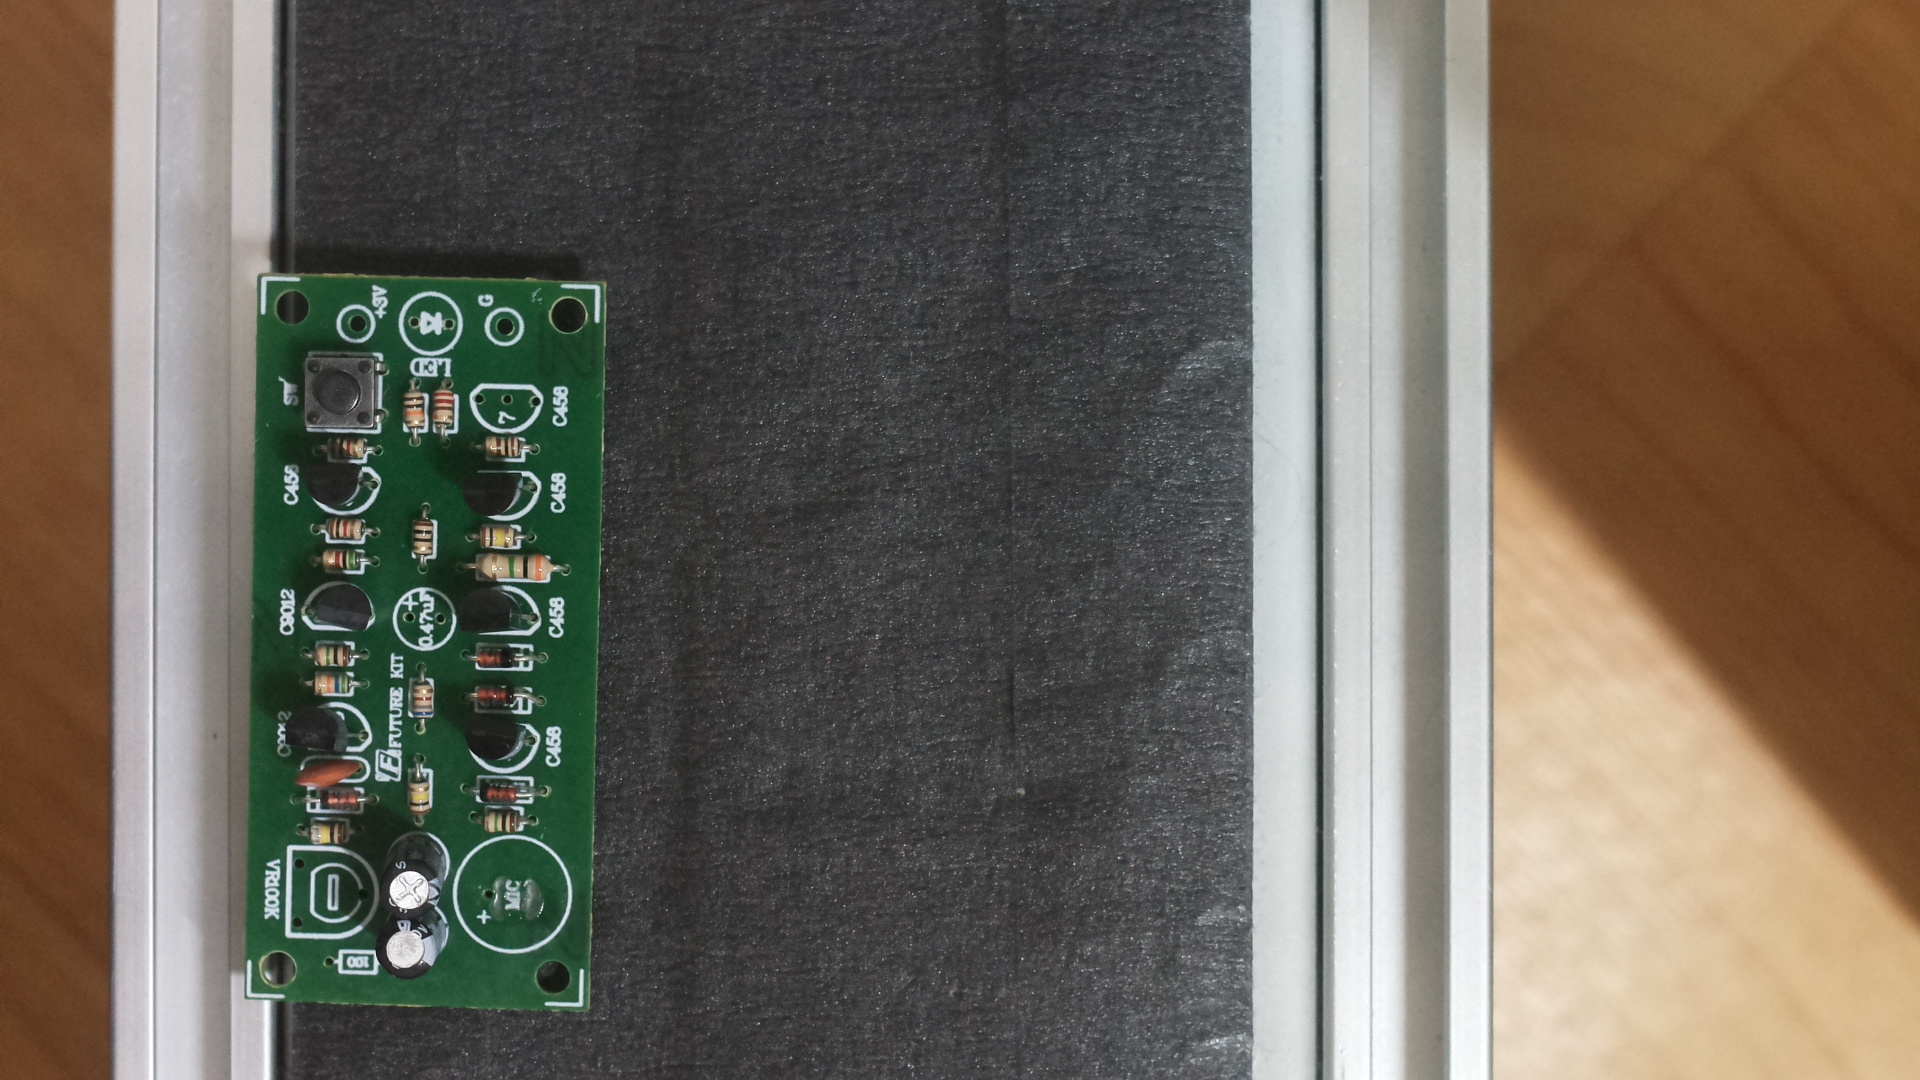A_Missing_part: (248, 253, 612, 1034)
